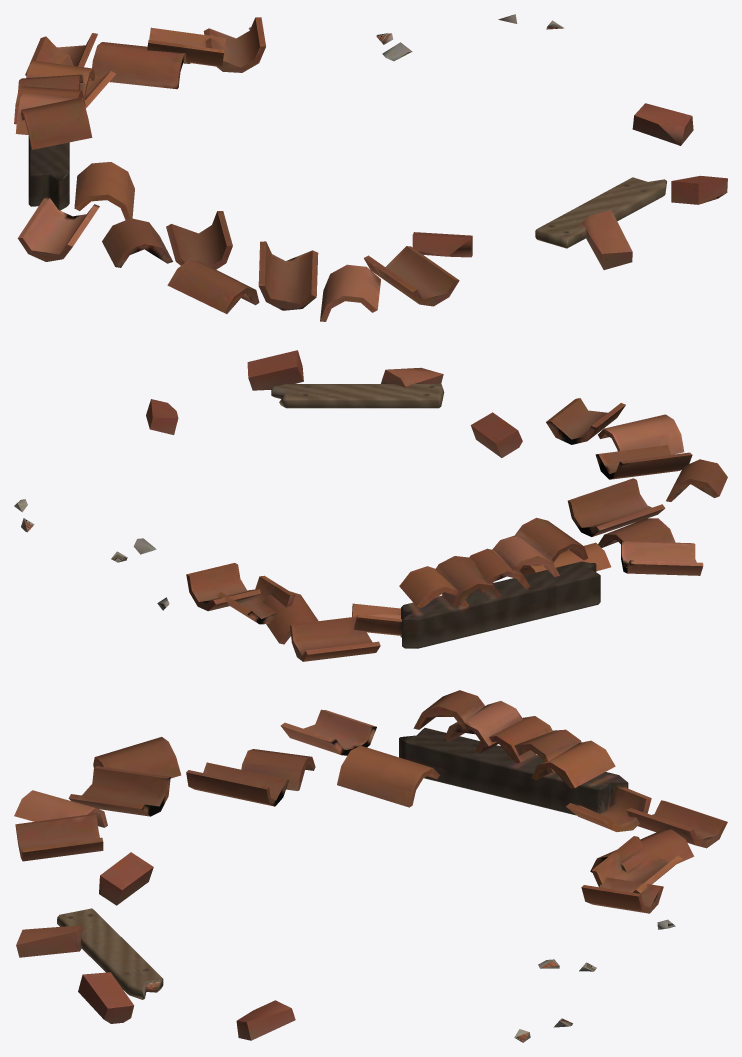
File: rough-town-3.low.glb
3 renders of one model, top to bottom at view 1: azimuth 30°, elevation 25°; view 2: azimuth 150°, elevation 25°; view 3: azimuth 270°, elevation 25°, orthographic. The views are drawn at different scales.
Visible parts, largest first — view 1: rough-town-3; view 2: rough-town-3; view 3: rough-town-3.
Boxes of the visible parts, x1,y1,x2,y2 form: rough-town-3: (14,14,727,321); rough-town-3: (14,350,727,661); rough-town-3: (14,690,727,1042).
Size of the model in its own units: 1.81 by 0.2469 by 1.75.
1 material, 1 textured.
